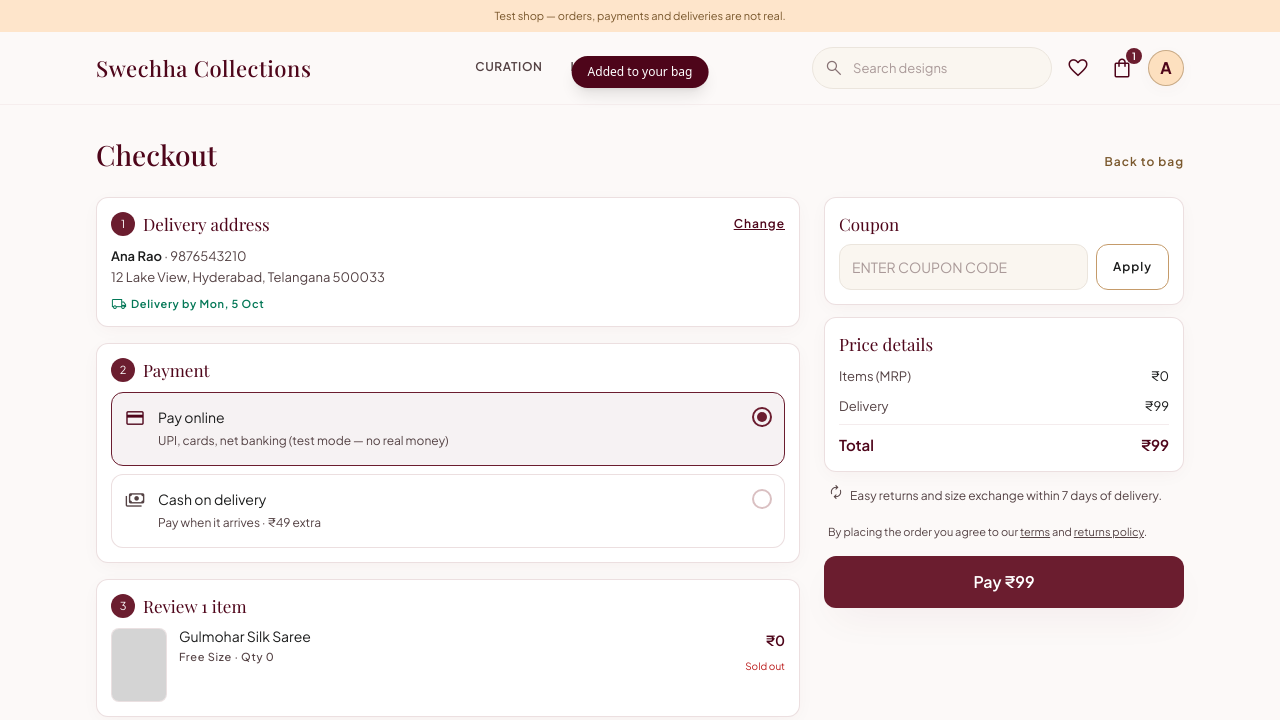
Test: checkout › needs an address, then places a cash-on-delivery order and shows the confirmation
Earlier steps of the test are not shown.
Expected: the text "Ana Rao" is shown, [111, 248, 162, 264]
Click the radio button labelled "Cash on delivery Pay when it arrives · ₹49 extra" at [212, 499], box [111, 474, 785, 548]
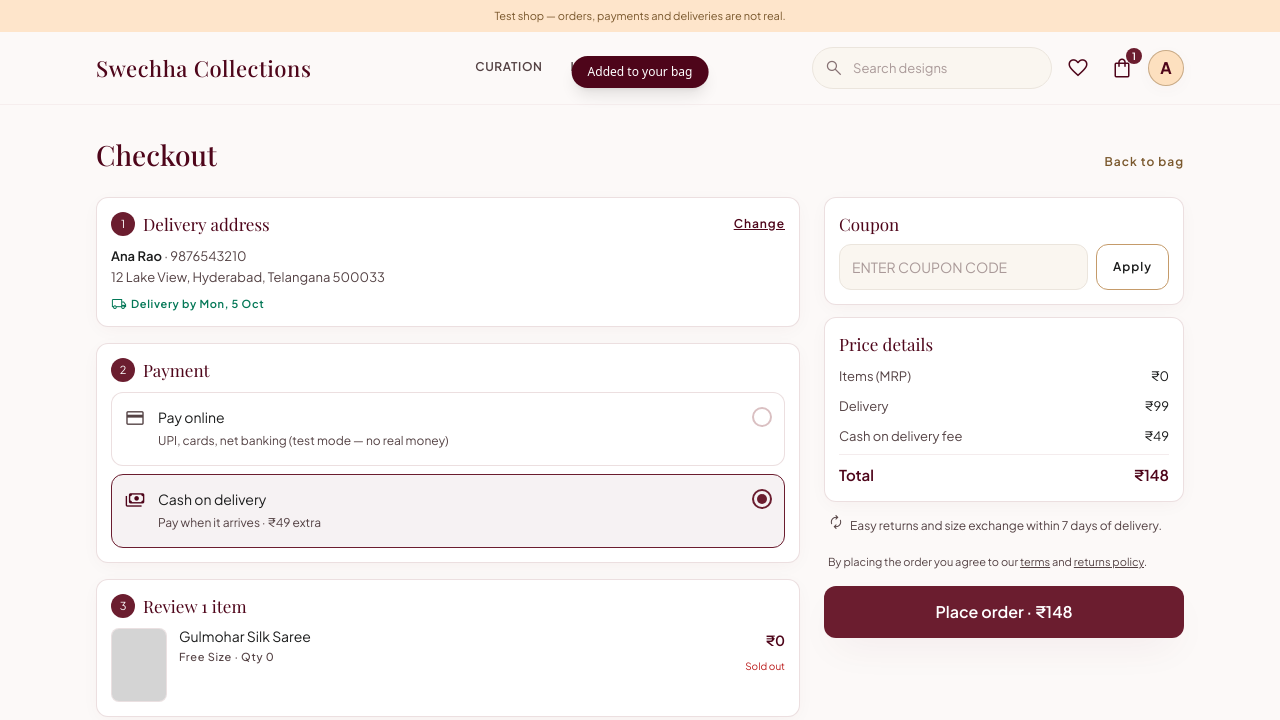
Click the button "Place order · ₹148" at [1004, 612], box [824, 586, 1184, 638]
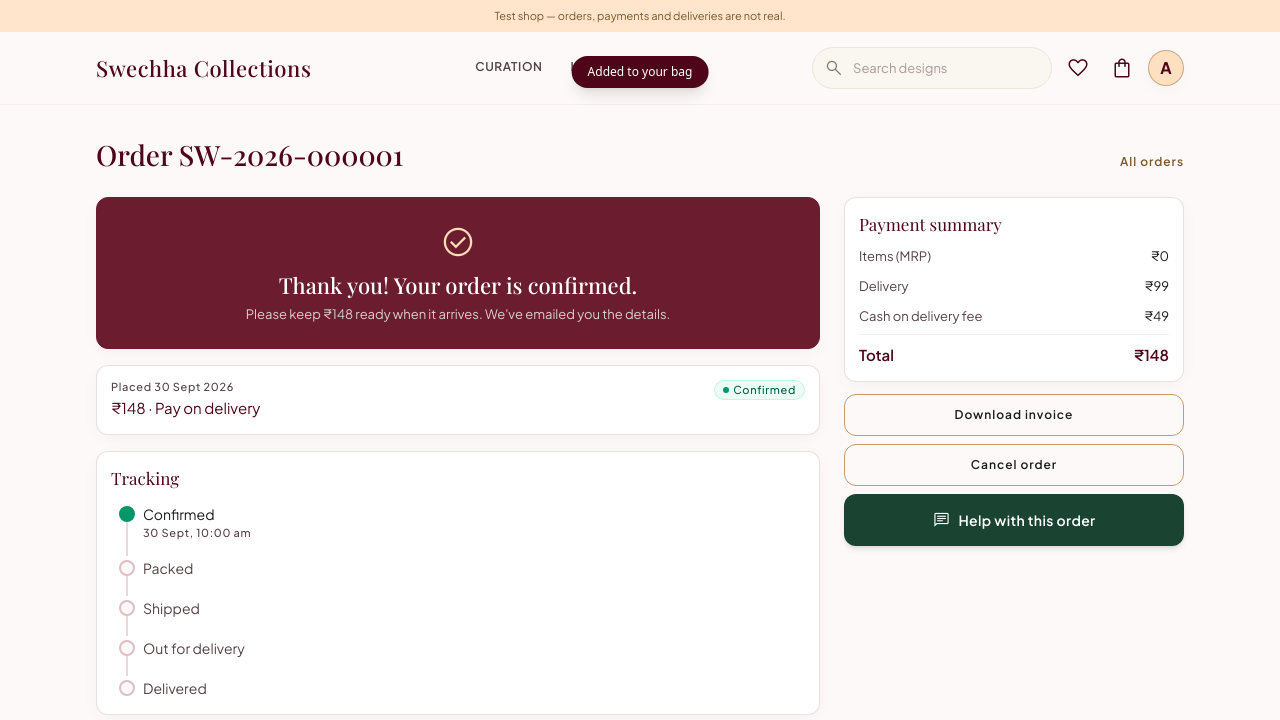
Result: the heading "Thank you! Your order is confirmed." is shown at [279, 270, 637, 300]
